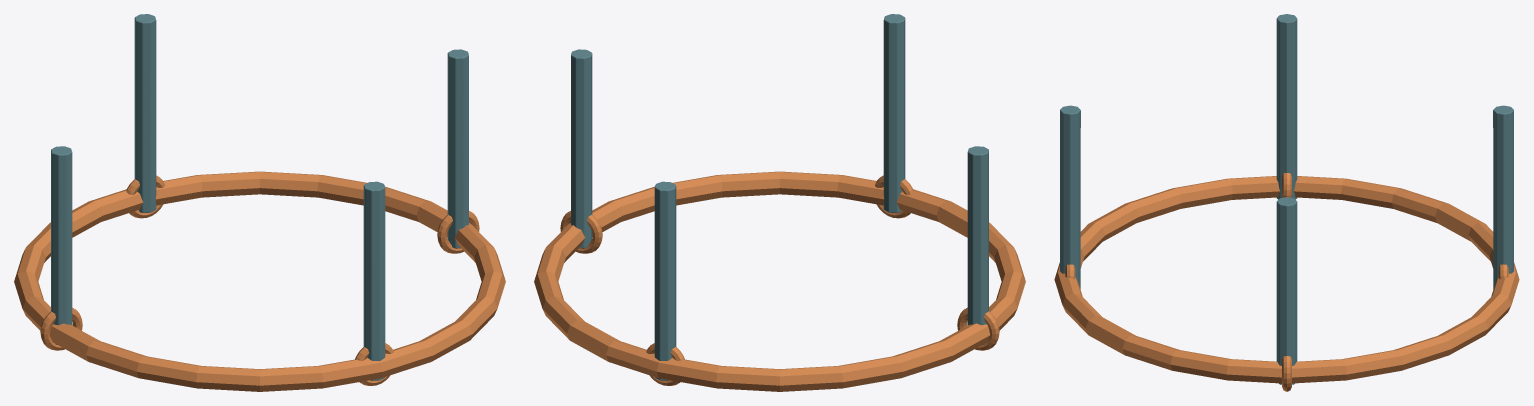
Rendered from micro_reactor_manifold_d0.glb.
3 renders of one model, left to right at view 1: azimuth 30°, elevation 25°; view 2: azimuth 150°, elevation 25°; view 3: azimuth 270°, elevation 25°, orthographic. The views are drawn at different scales.
Parts seen in each view (by area): view 1: Manifold ring.004, Coolant riser.017, Coolant riser.019, Coolant riser.016, Coolant riser.018, Pipe flange.018, Pipe flange.016; view 2: Manifold ring.004, Coolant riser.019, Coolant riser.017, Coolant riser.016, Coolant riser.018, Pipe flange.018, Pipe flange.016; view 3: Manifold ring.004, Coolant riser.018, Coolant riser.016, Coolant riser.017, Coolant riser.019.
Part boxes in pixels (<box>): Manifold ring.004: <box>14,171,505,391</box>; Coolant riser.017: <box>134,14,156,212</box>; Coolant riser.019: <box>363,181,385,380</box>; Coolant riser.016: <box>447,49,468,248</box>; Coolant riser.018: <box>51,146,72,344</box>; Pipe flange.018: <box>40,307,82,350</box>; Pipe flange.016: <box>437,211,479,253</box>; Manifold ring.004: <box>534,171,1025,391</box>; Coolant riser.019: <box>883,14,905,212</box>; Coolant riser.017: <box>654,181,676,380</box>; Coolant riser.016: <box>571,49,592,248</box>; Coolant riser.018: <box>967,146,988,344</box>; Pipe flange.018: <box>957,307,999,350</box>; Pipe flange.016: <box>560,211,602,253</box>; Manifold ring.004: <box>1054,176,1519,383</box>; Coolant riser.018: <box>1276,14,1297,199</box>; Coolant riser.016: <box>1276,197,1297,384</box>; Coolant riser.017: <box>1493,105,1513,288</box>; Coolant riser.019: <box>1060,105,1080,288</box>.
Size of the model in its own units: 5.41 by 2.36 by 5.26.
